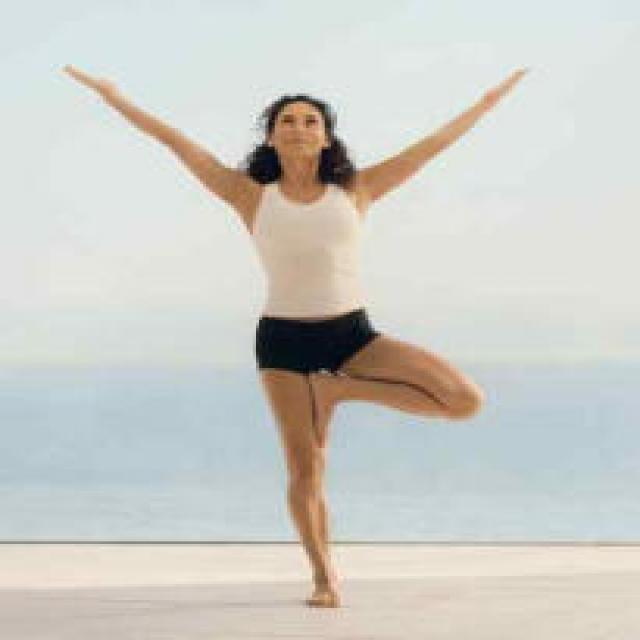yoga-pose tree: (57, 61, 533, 614)
